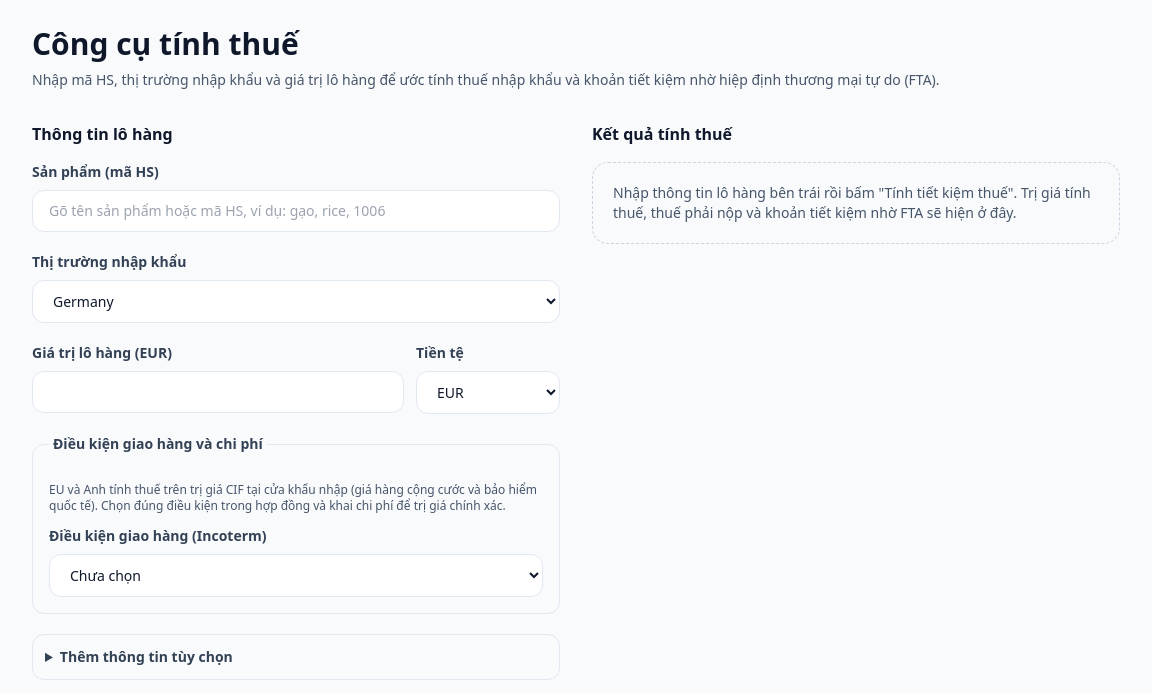
Gợi ý cước và bảo hiểm (N6a) › giá tham khảo khác tiền tệ lô hàng: giải thích cách dùng, không điền sai tiền tệ
The image size is (1152, 693).
Select "FOB — Giao lên tàu" in the dropdown labelled "Điều kiện giao hàng (Incoterm)" at (296, 576), box [49,554,543,597]
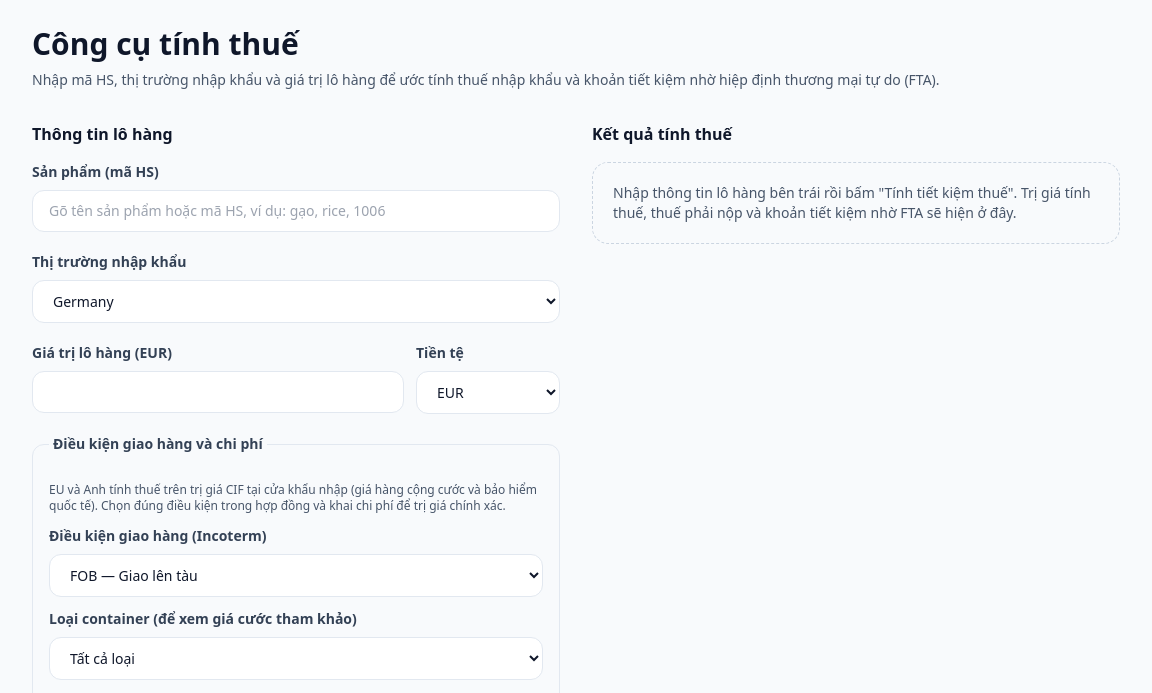
Expected: the button "Dùng giá này" is not shown
Select "USD" in the dropdown labelled "Tiền tệ" at (488, 392), box [416,371,560,414]
(page scrolled)
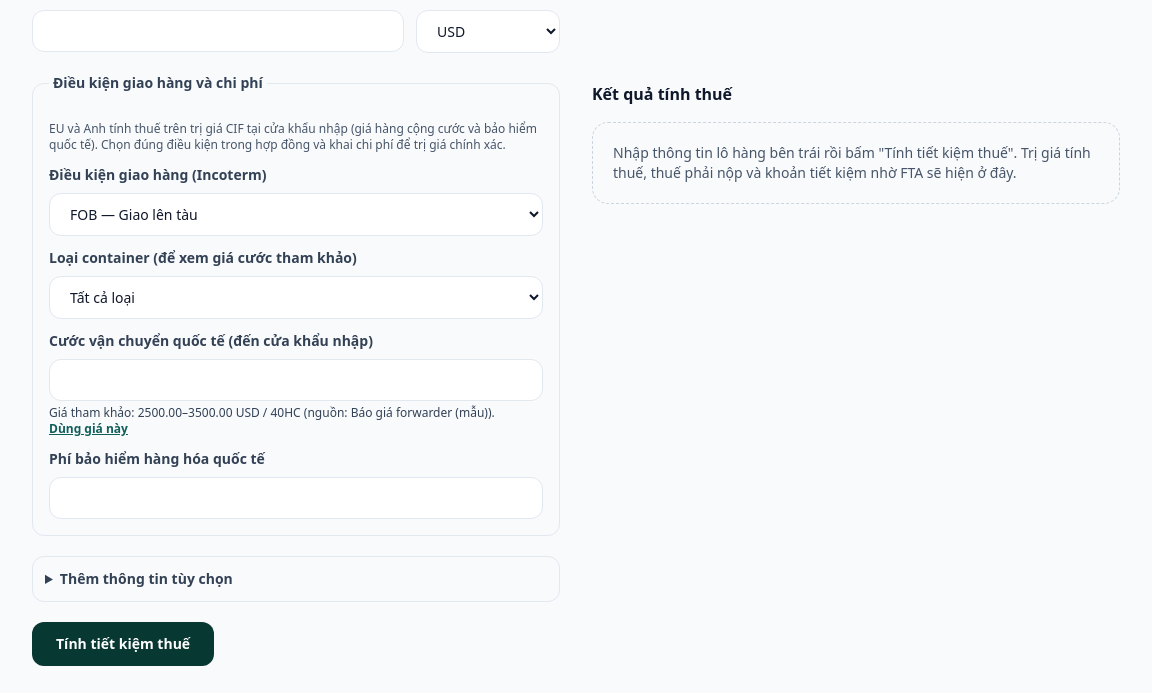
Click the button "Dùng giá này" at (88, 429), box [49,421,128,437]
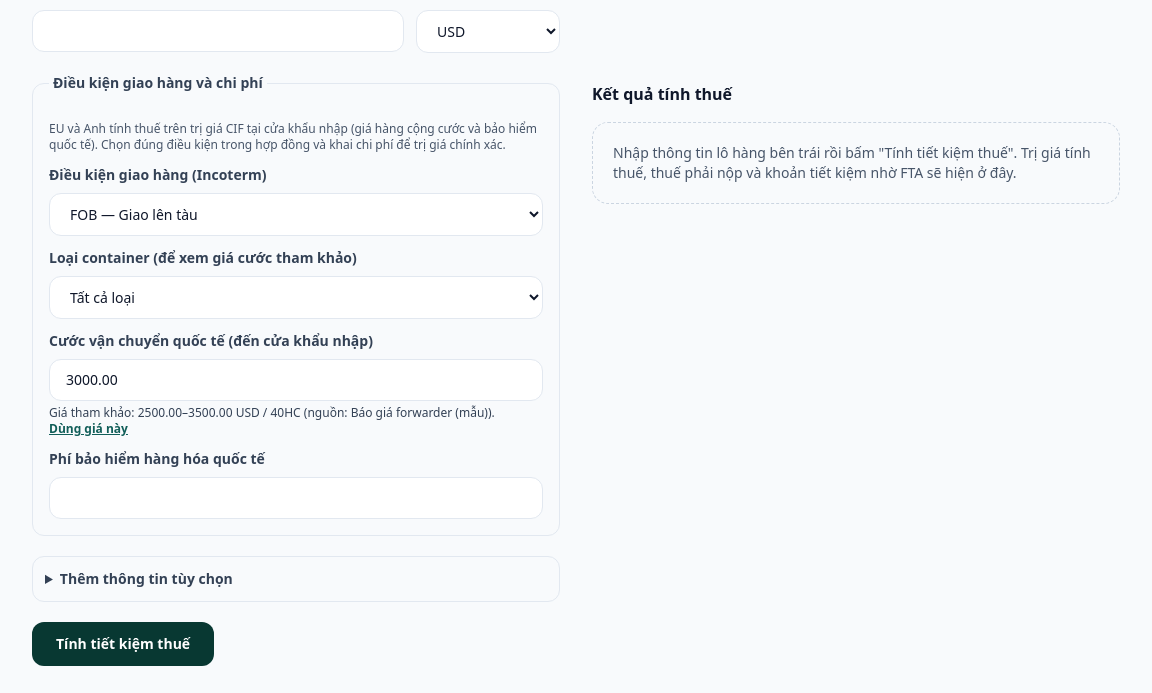
Now the field labelled "Cước vận chuyển quốc tế (đến cửa khẩu nhập)" holds "3000.00", box [49,359,543,401]
